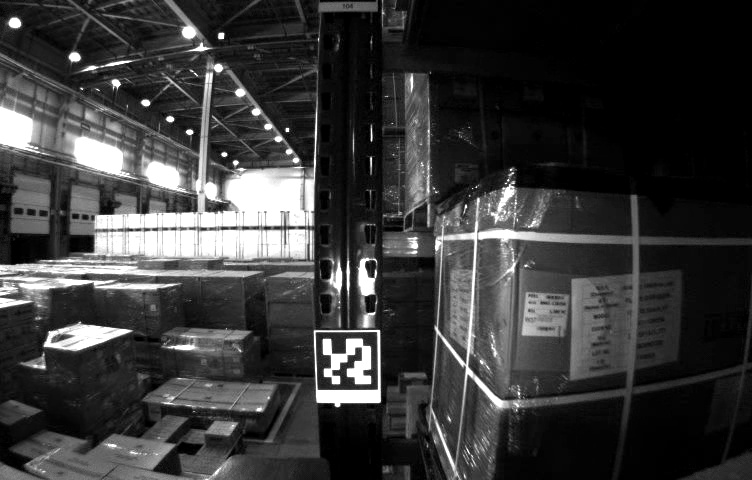True Barcode: (525, 291, 568, 340)
